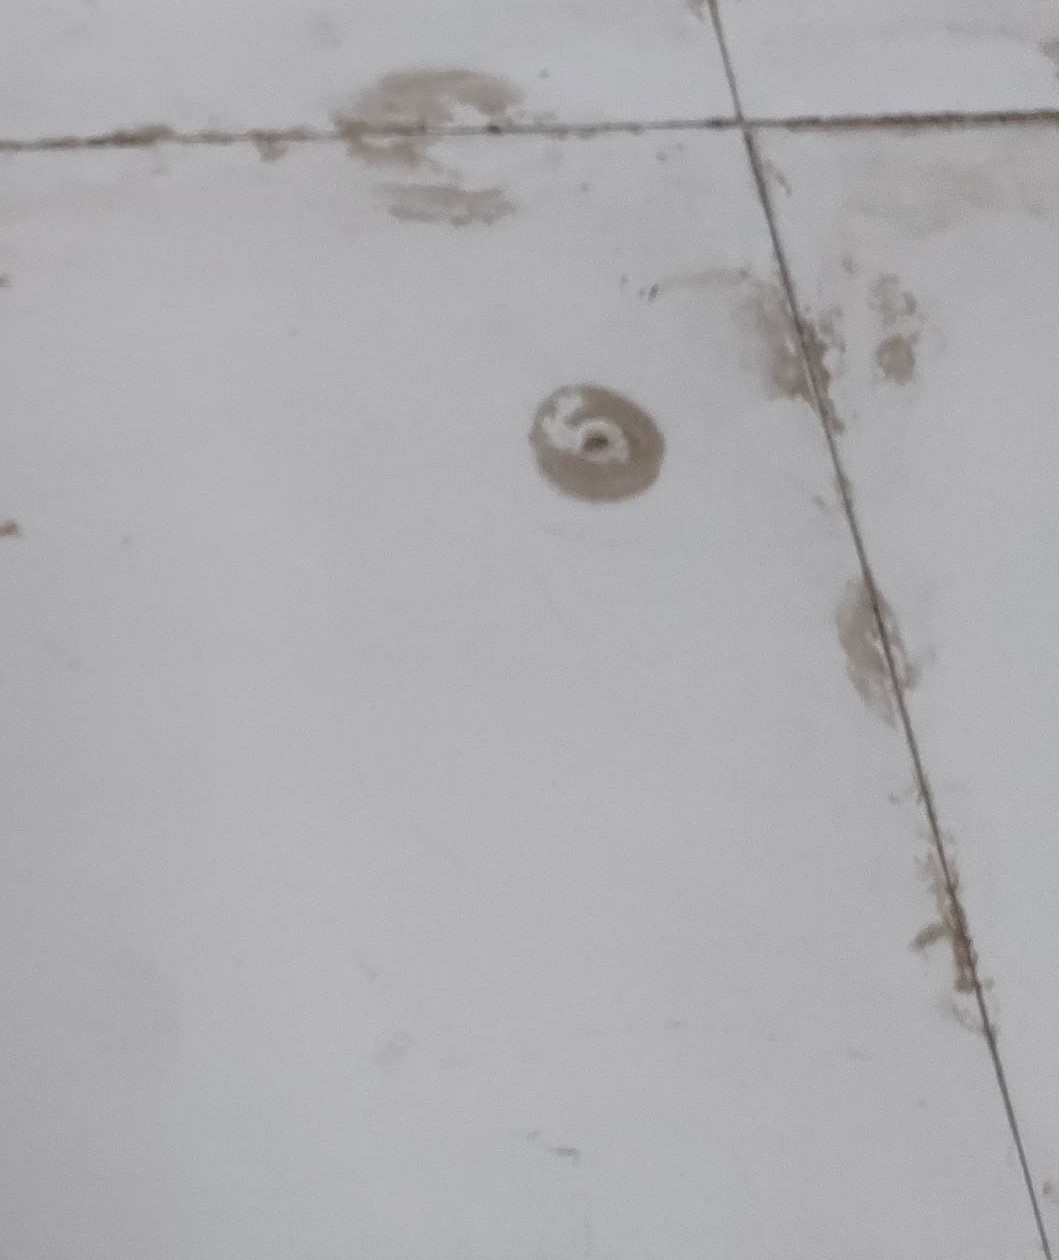grey spot: (337, 66, 523, 226), (525, 386, 665, 503), (753, 278, 844, 433), (910, 833, 987, 993), (837, 581, 915, 732), (866, 271, 921, 327), (879, 337, 919, 386)
